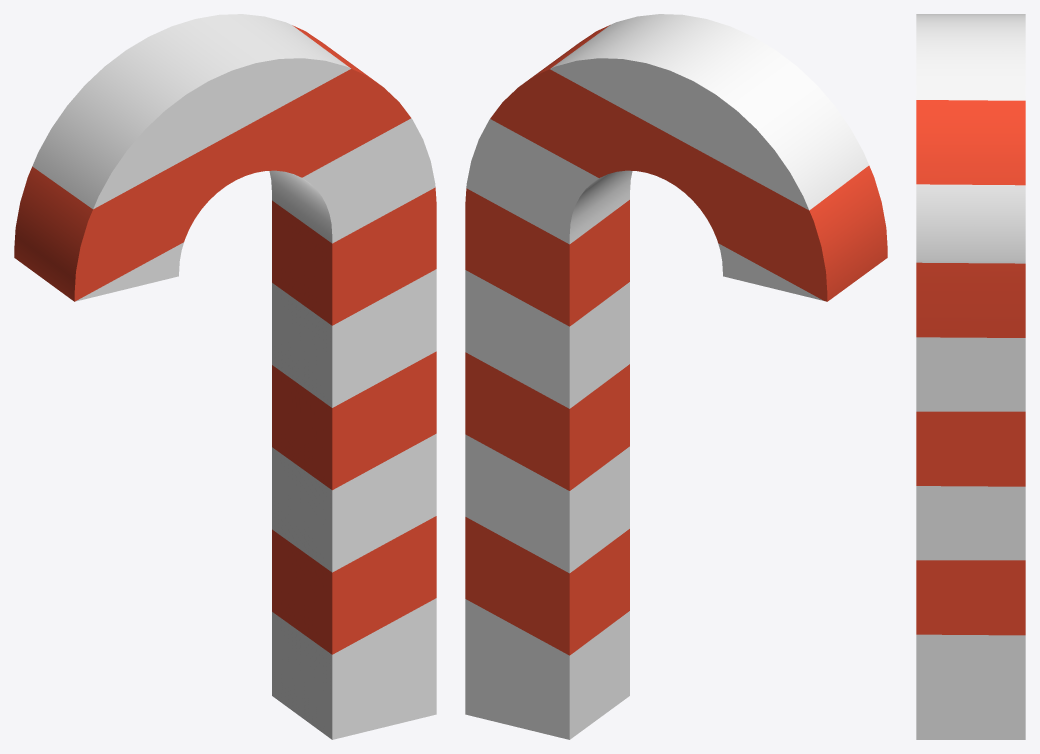
Rendered from candyCane.fbx.
3 renders of one model, left to right at view 1: azimuth 30°, elevation 25°; view 2: azimuth 150°, elevation 25°; view 3: azimuth 270°, elevation 25°, orthographic. The views are drawn at different scales.
Parts seen in each view (by area): view 1: candyCane; view 2: candyCane; view 3: candyCane.
Part boxes in pixels (<box>): candyCane: <box>14,14,436,739</box>; candyCane: <box>465,14,887,739</box>; candyCane: <box>916,14,1025,739</box>.
Bounding box in the file's own units: 1.38 × 2.54 × 0.399.
